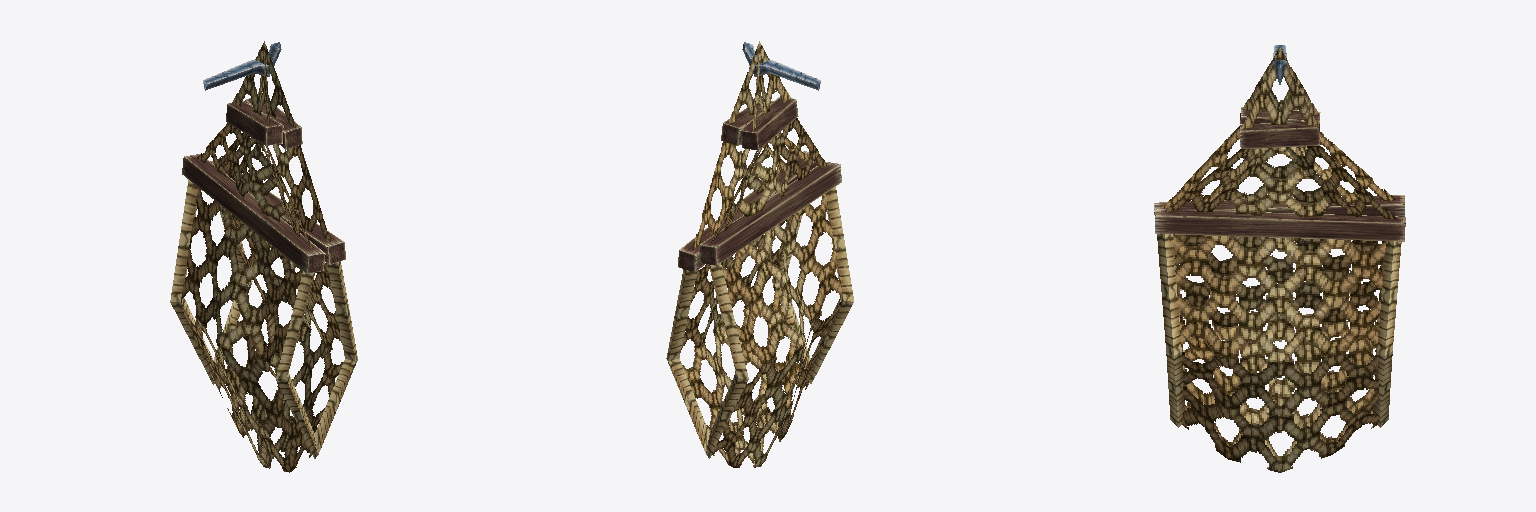
3 views of the same model, side by side, from view 1: azimuth 30°, elevation 25°; view 2: azimuth 150°, elevation 25°; view 3: azimuth 270°, elevation 25° (orthographic).
Visible parts, largest first — view 1: hammock02.m2; view 2: hammock02.m2; view 3: hammock02.m2.
Boxes of the visible parts, x1,y1,x2,y2 form: hammock02.m2: [170, 41, 357, 472]; hammock02.m2: [666, 41, 853, 467]; hammock02.m2: [1154, 45, 1405, 472].
Size of the model in its own units: 0.8394 by 3.34 by 1.78.
Materials: 2 (2 with a texture image).